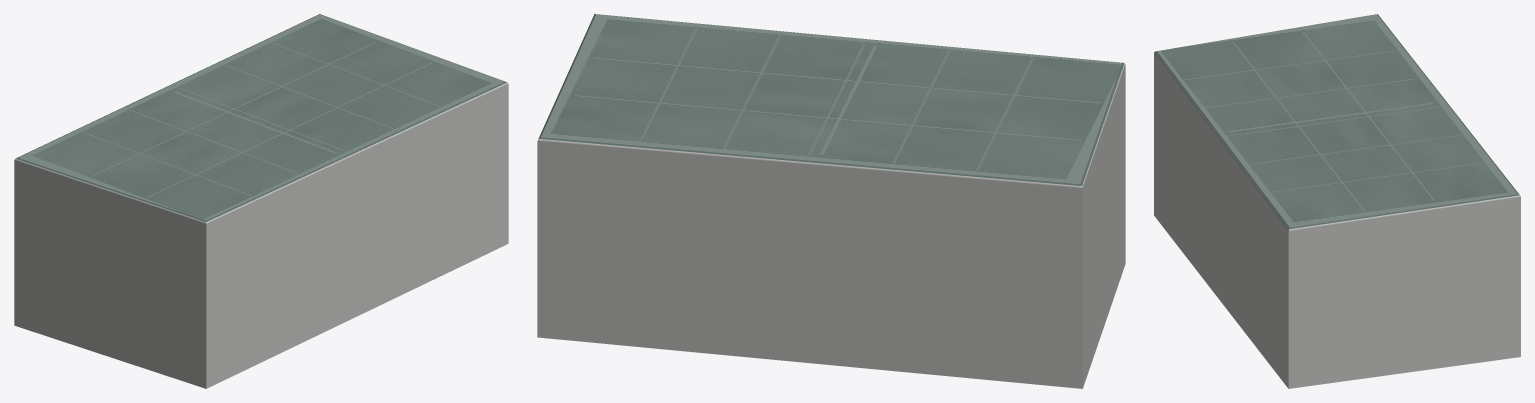
File: intact.glb
The picture shows the model from 3 angles, left to right: view 1: azimuth 30°, elevation 25°; view 2: azimuth 150°, elevation 25°; view 3: azimuth 270°, elevation 25°; orthographic projection. The views are drawn at different scales.
Visible parts, largest first — view 1: SM_gh32_Intact_00; view 2: SM_gh32_Intact_00; view 3: SM_gh32_Intact_00.
Part boxes in pixels (x1,y1,x2,y2): SM_gh32_Intact_00: (14, 14, 508, 388); SM_gh32_Intact_00: (537, 14, 1125, 388); SM_gh32_Intact_00: (1154, 14, 1520, 388).
Bounding box in the file's own units: 2.2 × 0.7851 × 1.58.
Materials: 3 (1 with a texture image).
